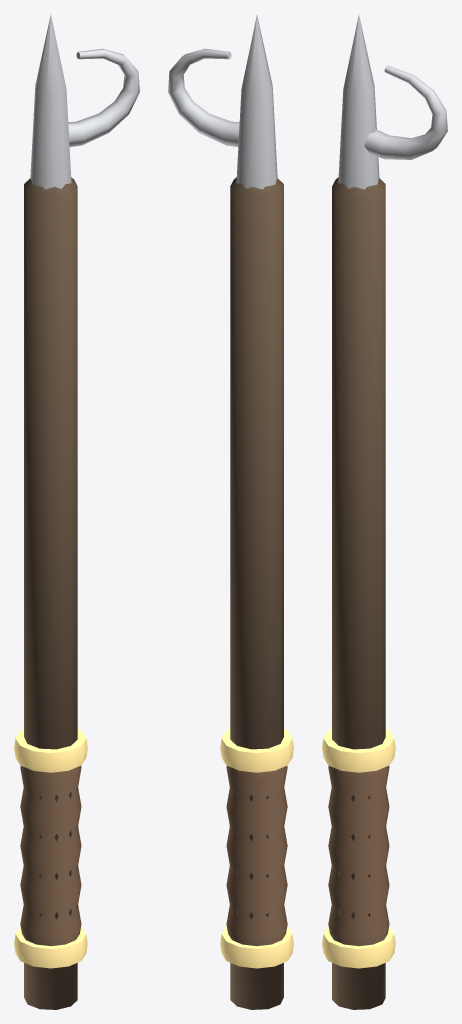
File: goad.glb
3 renders of one model, left to right at view 1: azimuth 30°, elevation 25°; view 2: azimuth 150°, elevation 25°; view 3: azimuth 330°, elevation 25°, orthographic.
Parts seen in each view (by area): view 1: W-goad; view 2: W-goad; view 3: W-goad.
Boxes of the visible parts, box(x1,y1,x2,y2) form: W-goad: box(14, 14, 139, 1009); W-goad: box(168, 14, 293, 1009); W-goad: box(322, 14, 447, 1009).
Size of the model in its own units: 0.1016 by 0.81 by 0.0546.
